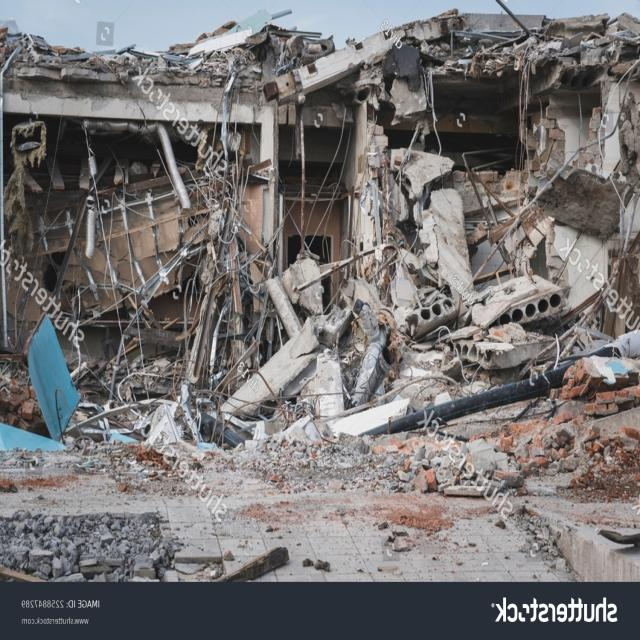Destroyed_building: (0, 0, 636, 583)
